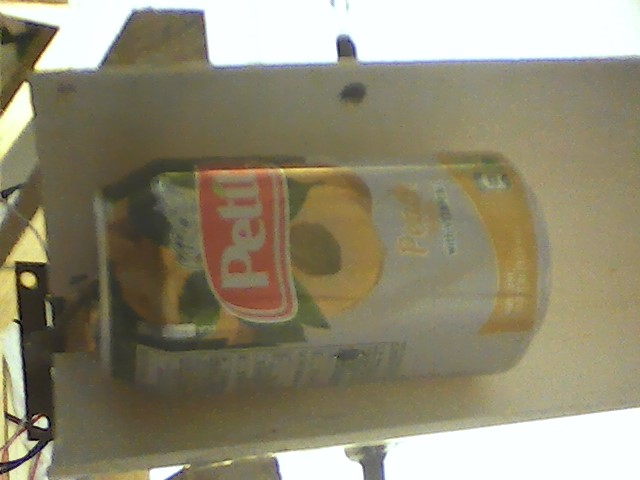lata: (88, 149, 556, 402)
